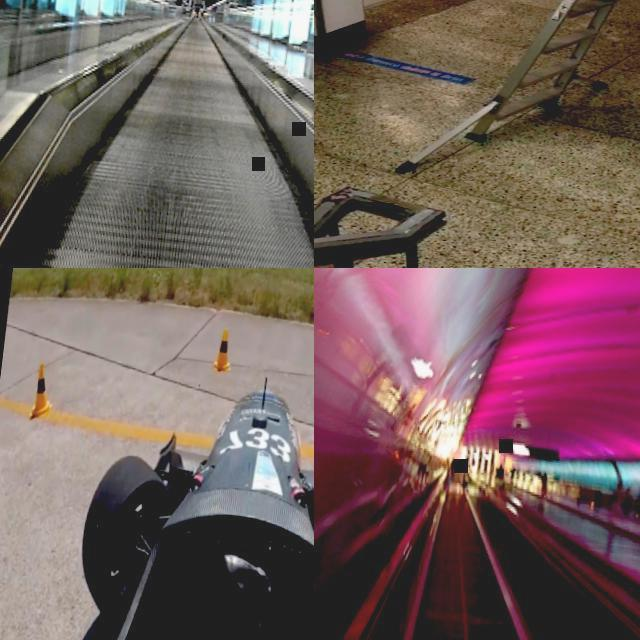safety_cone: (27, 359, 59, 416), (210, 329, 237, 376)
vehicle: (56, 351, 314, 640)
